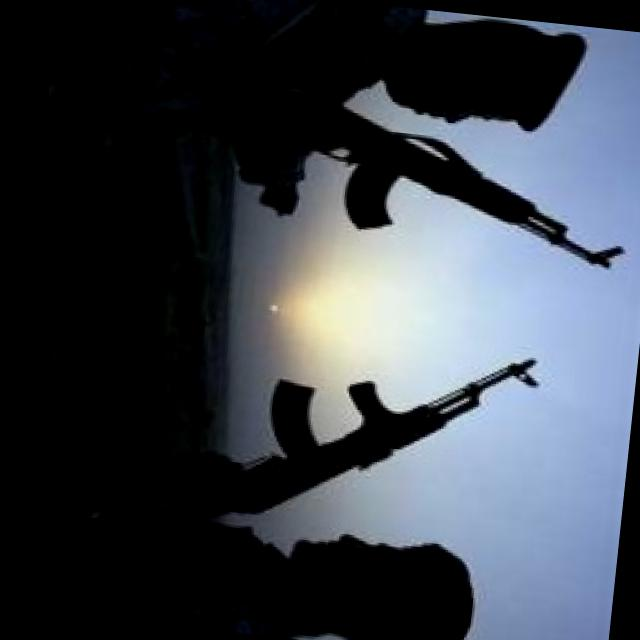long weapon: (238, 67, 635, 337), (151, 323, 552, 566)
